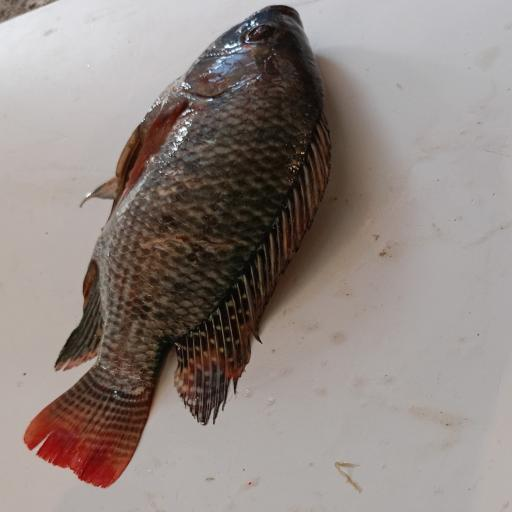Tilapia: (22, 5, 332, 488)
